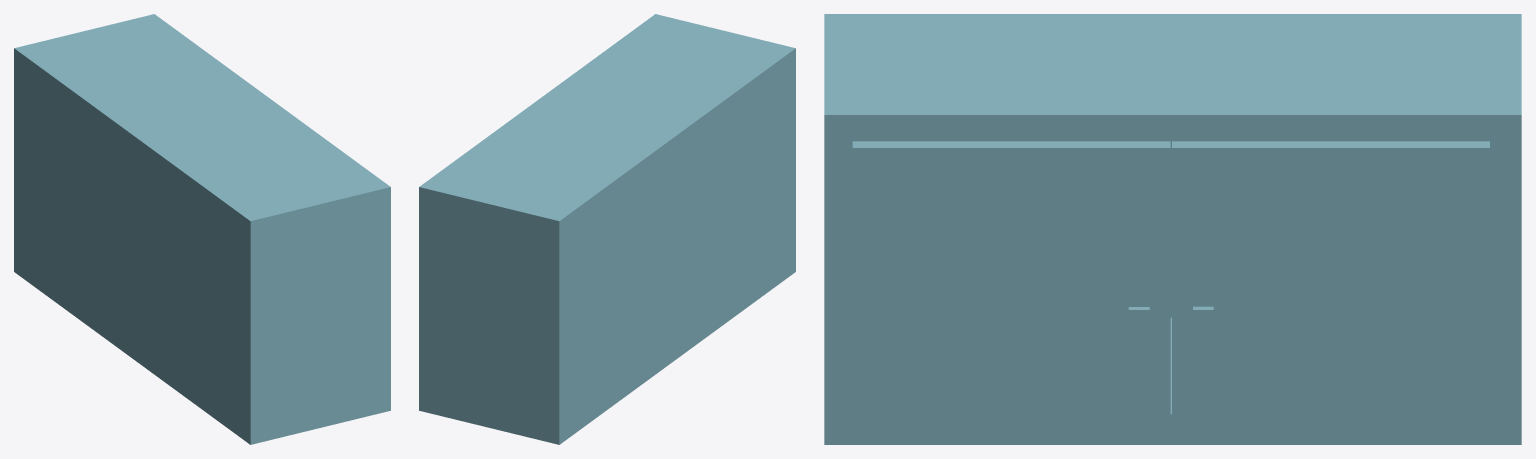
The model's file is Armario_pared.fbx.
3 renders of one model, left to right at view 1: azimuth 30°, elevation 25°; view 2: azimuth 150°, elevation 25°; view 3: azimuth 270°, elevation 25°, orthographic. The views are drawn at different scales.
Parts seen in each view (by area): view 1: Cube.021; view 2: Cube.021; view 3: Cube.021.
Boxes of the visible parts, x1=… form: Cube.021: x1=14, y1=14, x2=390, y2=444; Cube.021: x1=419, y1=14, x2=795, y2=444; Cube.021: x1=824, y1=14, x2=1521, y2=444.
Size of the model in its own units: 5.64 by 8.05 by 15.41.
